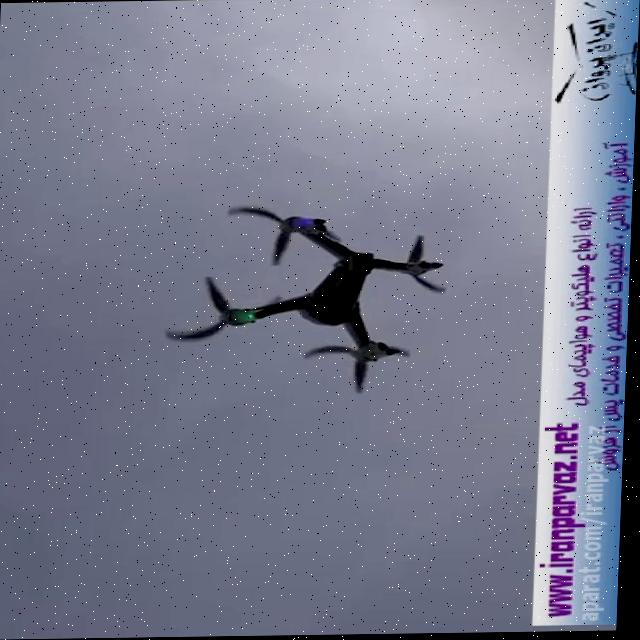drone: (154, 200, 457, 403)
